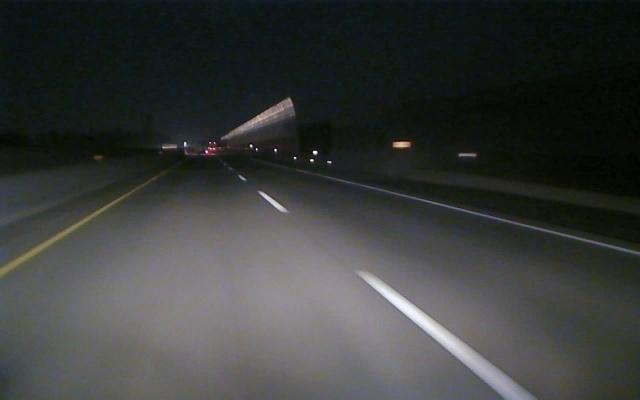lane: (237, 176, 536, 398), (358, 182, 640, 256), (1, 192, 130, 277)
